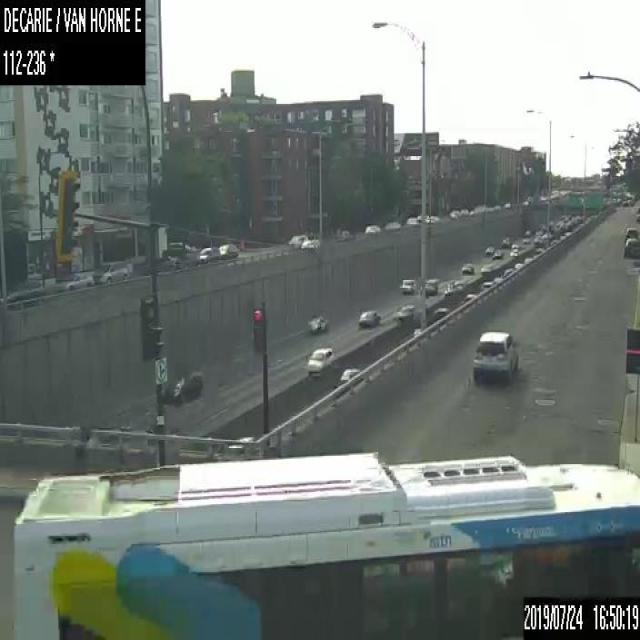bus: (10, 449, 639, 639)
vehicle: (521, 594, 639, 638), (472, 329, 518, 382), (162, 370, 203, 404), (5, 281, 44, 306), (92, 260, 127, 284), (55, 270, 92, 292), (306, 346, 334, 375), (333, 365, 361, 388), (195, 244, 220, 264), (357, 308, 380, 328), (307, 311, 327, 333), (218, 242, 239, 258), (392, 302, 413, 318), (287, 231, 305, 249), (399, 275, 416, 293), (624, 238, 639, 258), (443, 280, 463, 294), (300, 237, 319, 250), (364, 220, 380, 235), (426, 274, 438, 294), (431, 307, 448, 320), (405, 214, 420, 227), (459, 292, 474, 304), (383, 220, 400, 230), (624, 227, 637, 240), (460, 261, 473, 274), (509, 242, 520, 256), (478, 280, 492, 291), (479, 262, 492, 273), (501, 236, 510, 247), (492, 248, 501, 258), (484, 244, 494, 253), (502, 267, 512, 276), (449, 209, 458, 218), (635, 204, 639, 222), (522, 236, 530, 243), (460, 208, 468, 215), (513, 262, 522, 268), (493, 276, 502, 282), (523, 228, 530, 235)
